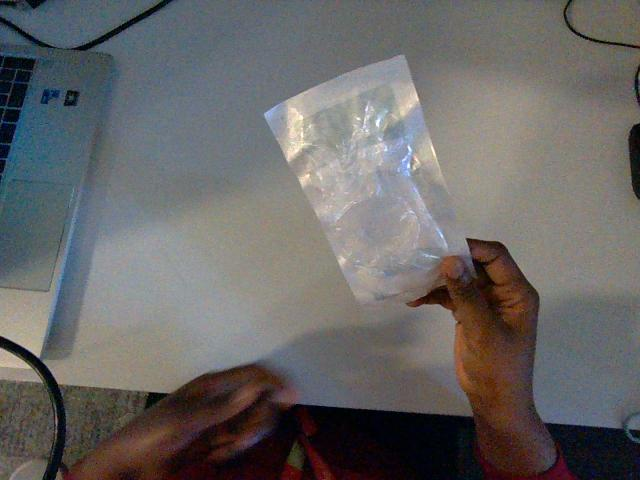gallipot: (265, 56, 469, 303)
